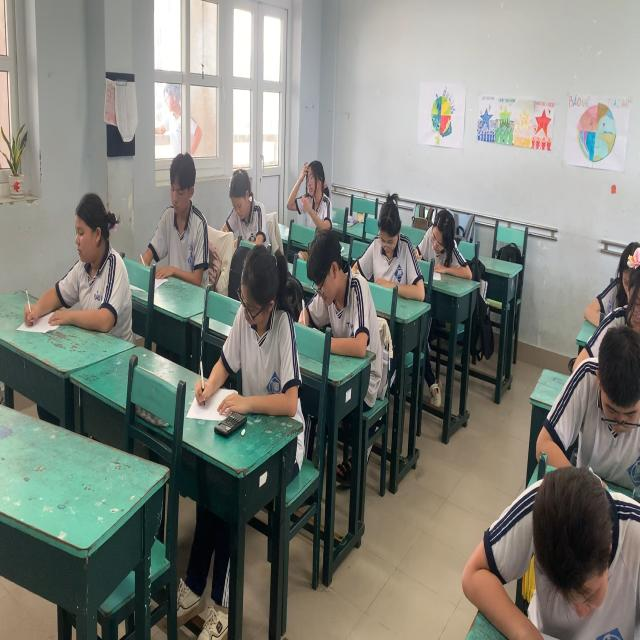not_cheating: (525, 443, 640, 640), (296, 215, 371, 390), (230, 254, 302, 434), (59, 185, 129, 344), (577, 333, 640, 483), (154, 146, 210, 292), (367, 190, 424, 307), (422, 200, 471, 294), (222, 159, 267, 248), (292, 151, 332, 228), (611, 254, 640, 345)
